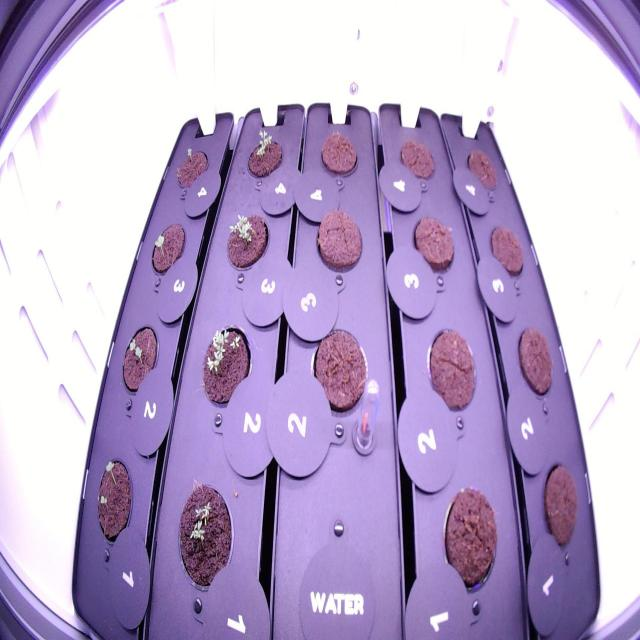germination: (174, 474, 236, 606), (198, 315, 256, 419), (89, 447, 139, 552), (117, 315, 162, 403), (221, 206, 272, 276), (241, 125, 285, 190), (146, 216, 188, 284), (172, 139, 212, 199)
pod: (438, 473, 502, 602), (304, 321, 373, 425), (422, 320, 482, 425), (535, 455, 582, 561), (310, 201, 366, 284), (411, 204, 459, 280), (514, 320, 555, 408), (485, 218, 528, 290), (314, 126, 362, 186), (394, 132, 440, 190), (462, 143, 501, 200)
